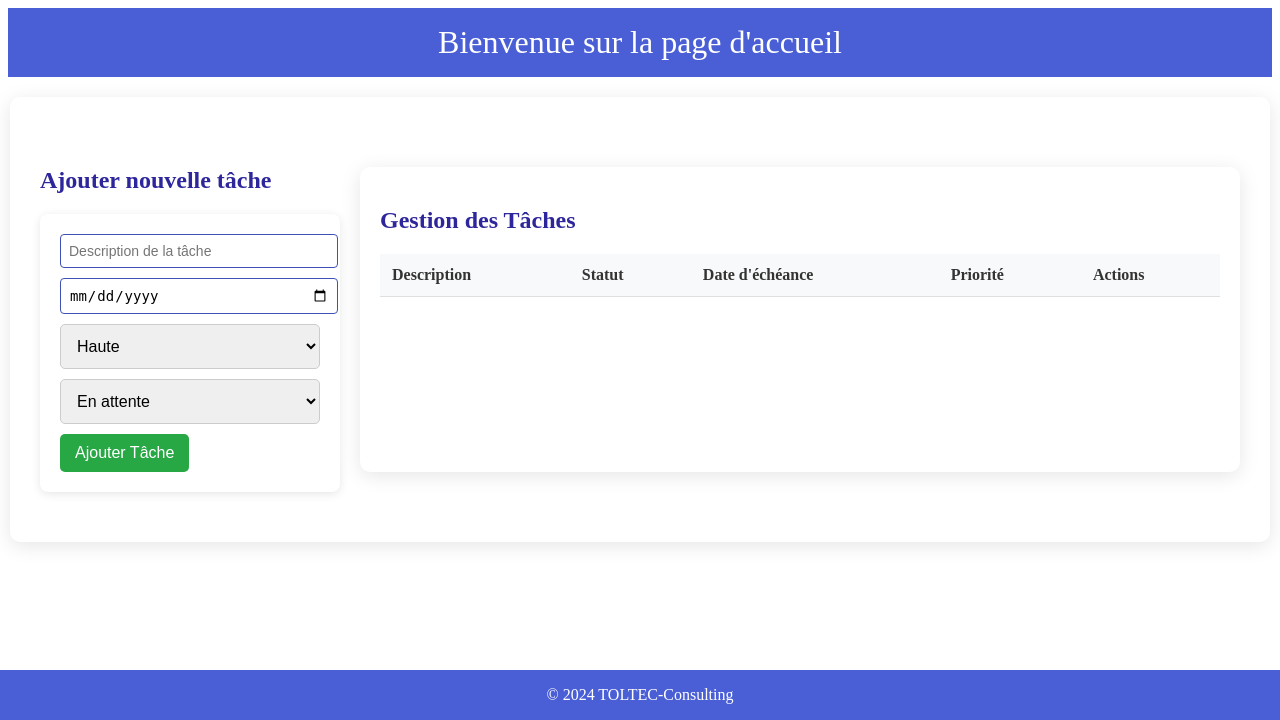
Task Manager E2E Tests › should create a new task
# Simuler l'ajout d'une nouvelle tâche
Step 1. Type "Nouvelle tâche" into the field named "description" → (199, 251), box [60,234,338,268]
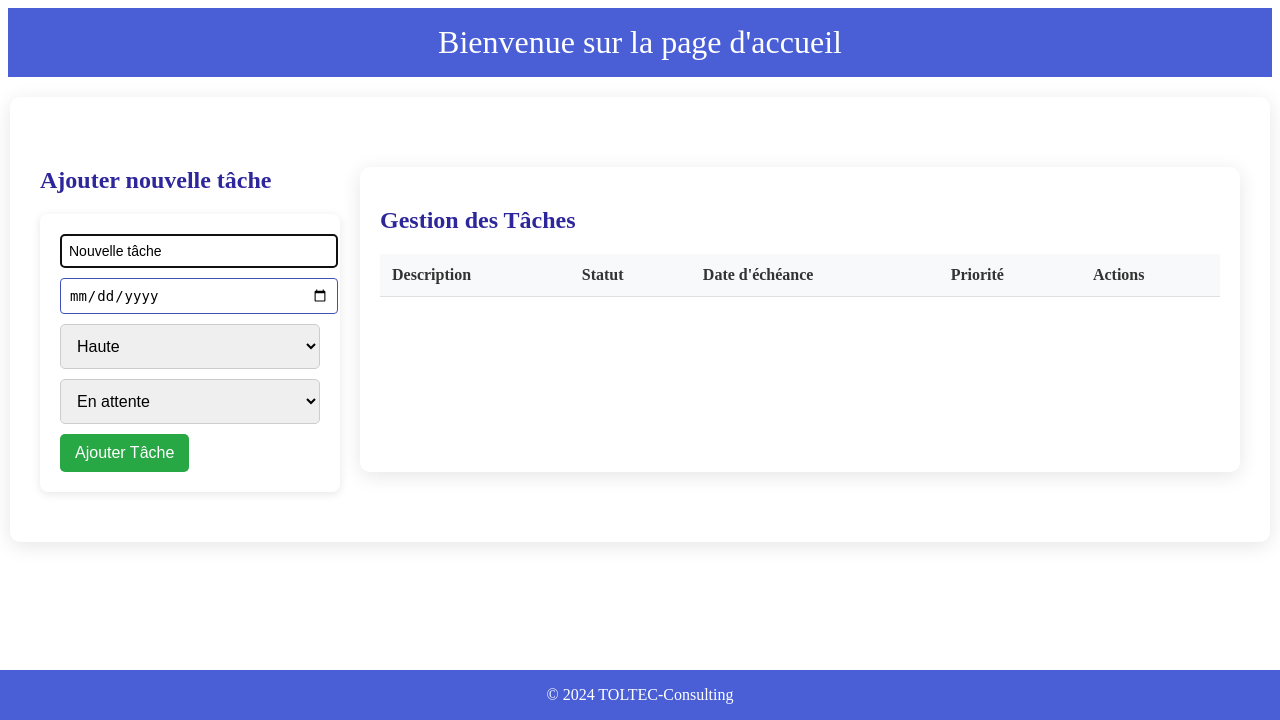
Step 2. Type "2024-12-31" into the date field named "dueDate" → (199, 296), box [60,278,338,314]
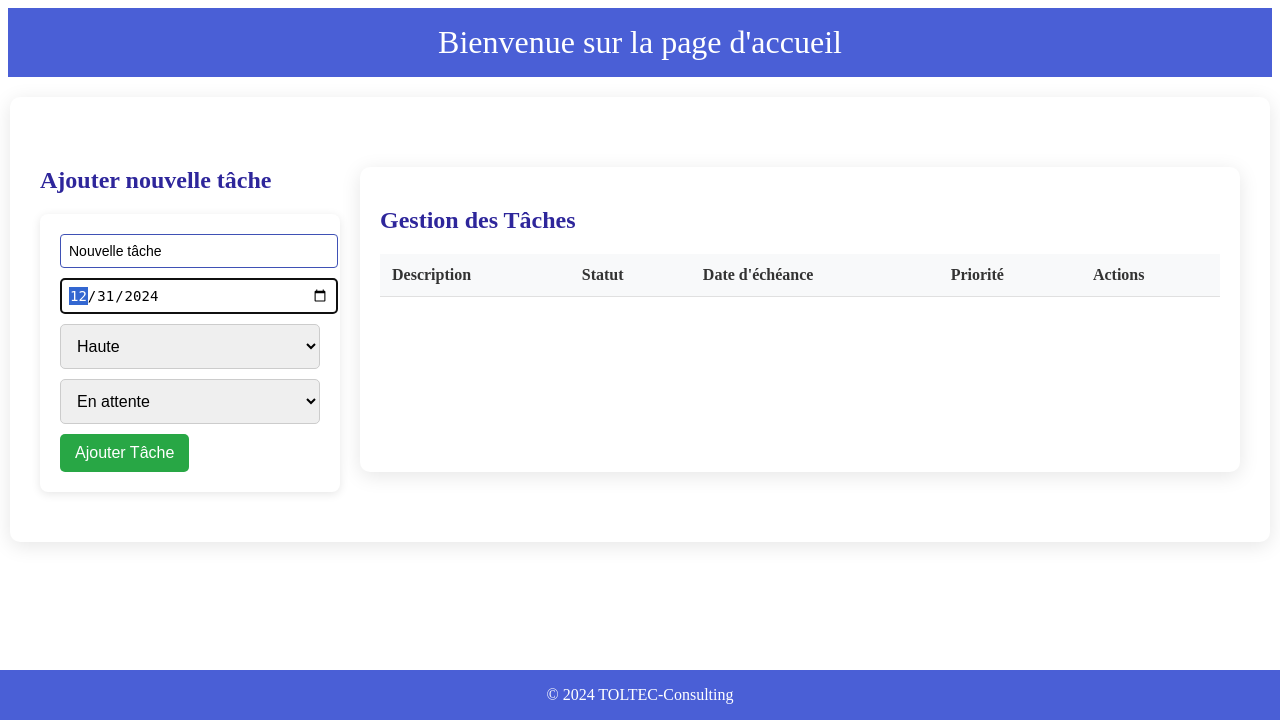
Step 3. Select "Haute" in the 1st dropdown named "priority" → (190, 347), box [60,324,320,369]
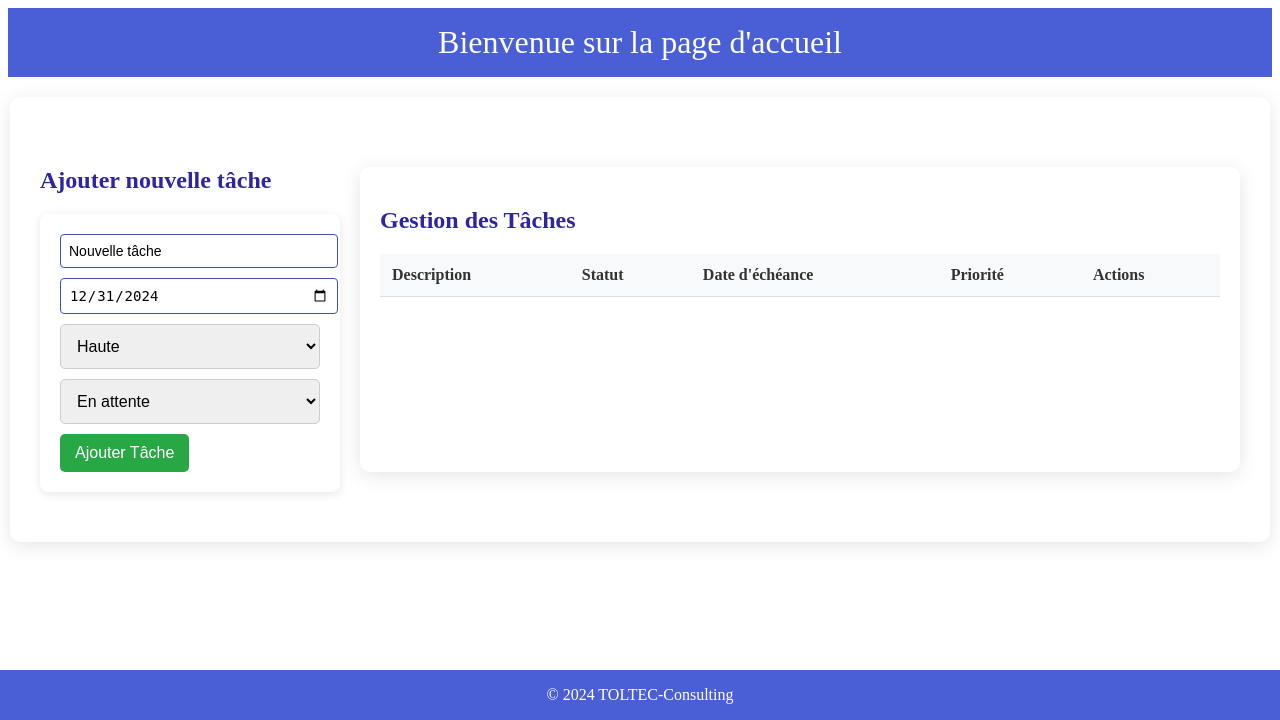
Step 4. Click the submit button → (125, 453), box [60,434,189,472]
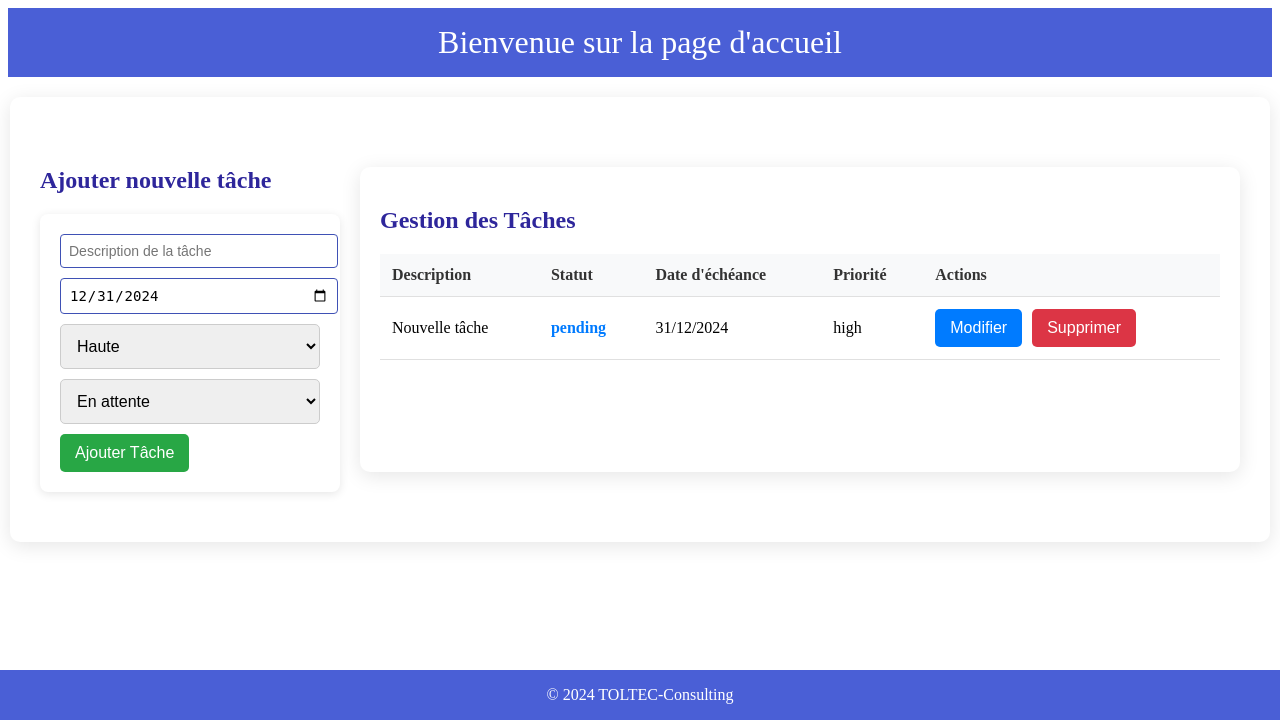
Expected: the cell with class "task-table" reads "Nouvelle tâche", [392,319,488,336]
